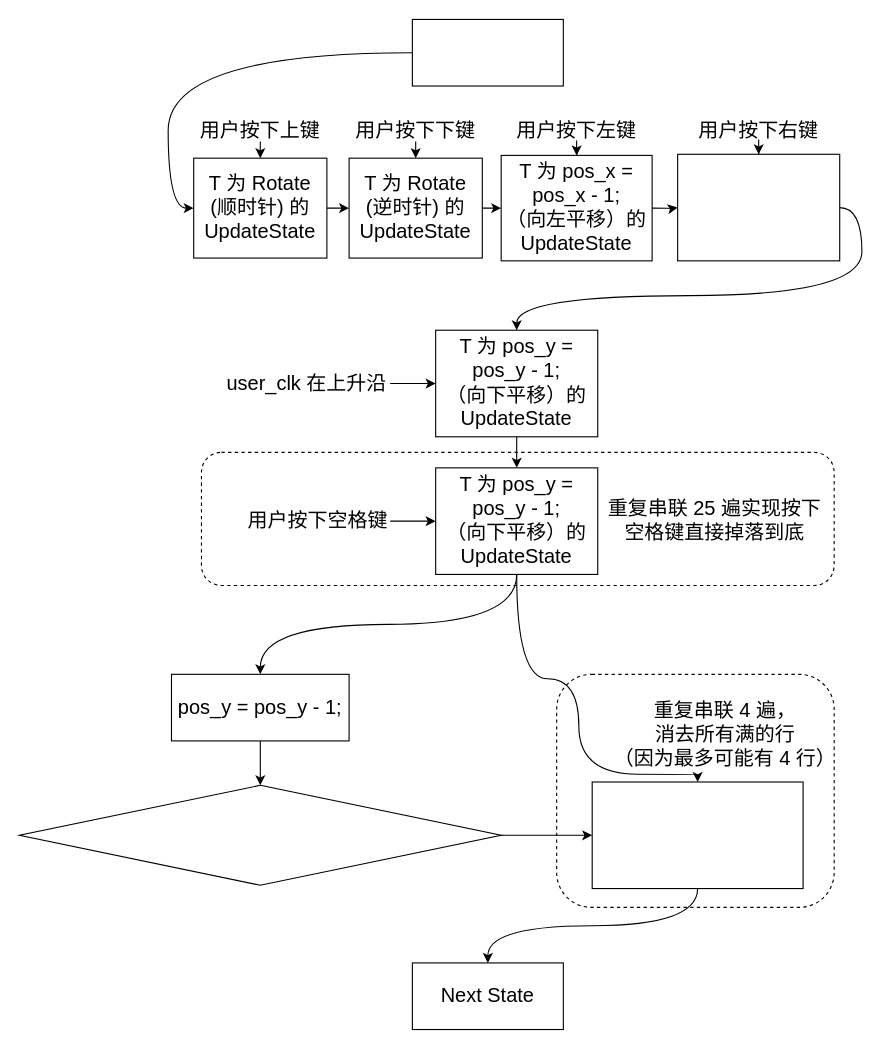
This 881x1049 diagram has some shape labels left out. Each missing label, with the centre of its shape:
"CollisionChecker 输出1表示输入状态中没有碰撞" belongs at pixel 259 834.
"Original State" belongs at pixel 487 52.
"T 为 pos_x = pos_x + 1; （向右平移）的 UpdateState" belongs at pixel 758 207.
"T 为 RowEliminator （删除一个填满的行） 的 UpdateState" belongs at pixel 697 835.
